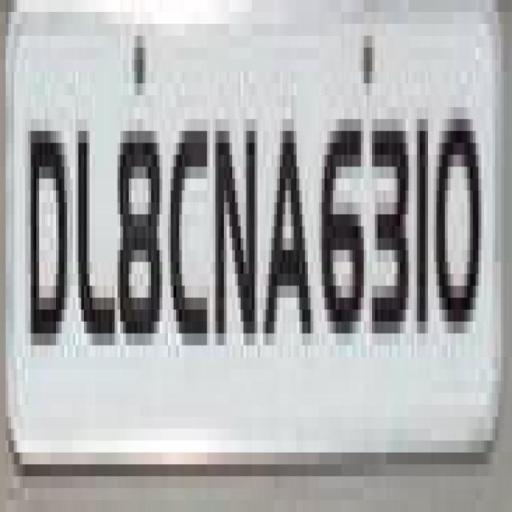number plate: (17, 0, 512, 488)
